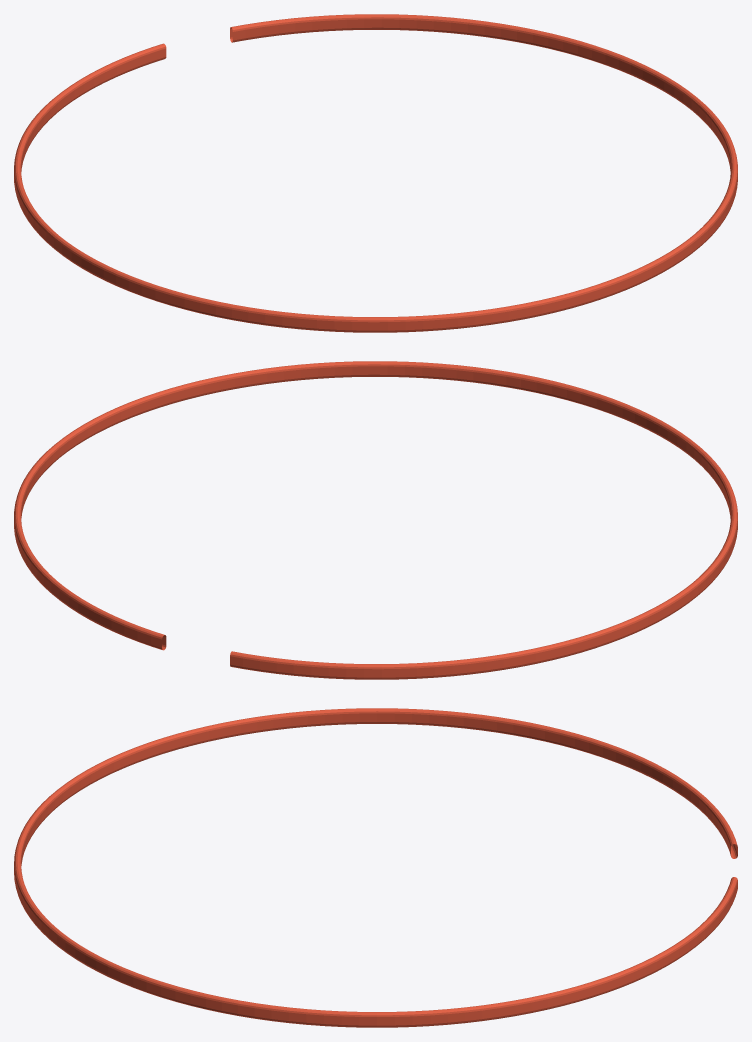
The model's file is border_one_part_open.fbx.
3 views of the same model, one above another, from view 1: azimuth 30°, elevation 25°; view 2: azimuth 150°, elevation 25°; view 3: azimuth 270°, elevation 25° (orthographic).
Visible parts, largest first — view 1: Circle.002; view 2: Circle.002; view 3: Circle.002.
Part boxes in pixels (x1,y1,x2,y2): Circle.002: [14, 14, 737, 332]; Circle.002: [14, 361, 737, 679]; Circle.002: [14, 708, 737, 1027].
Bounding box in the file's own units: 688 × 15.73 × 686.
